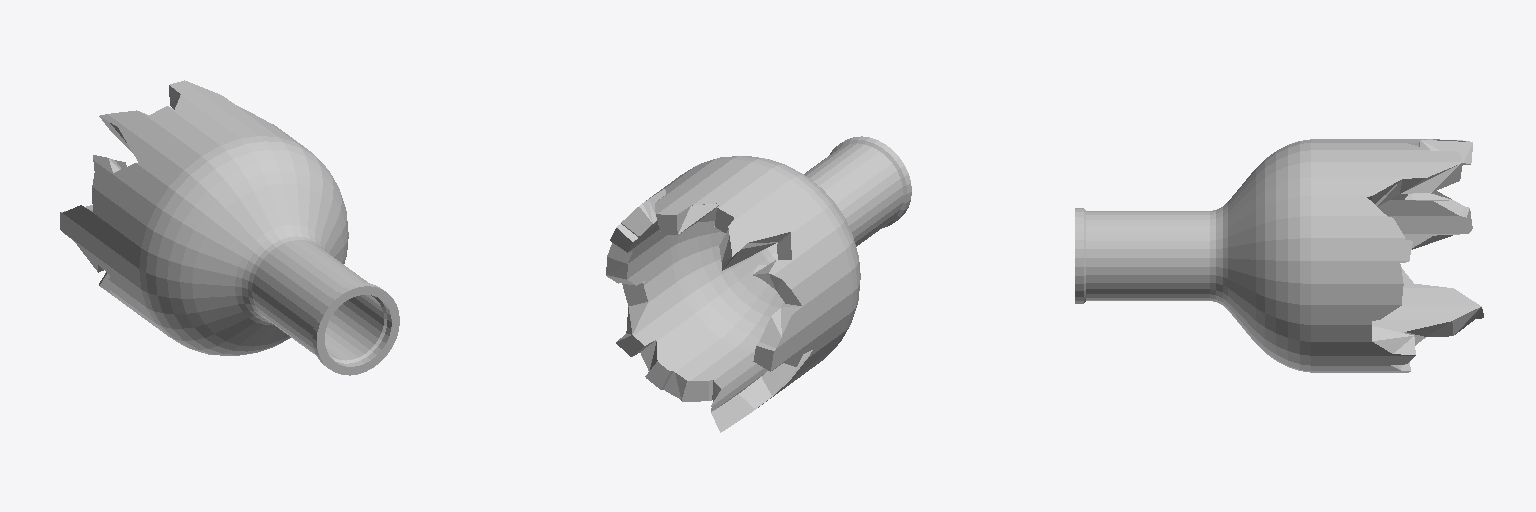
Rendered from Bottle3.obj.
3 views of the same model, side by side, from view 1: azimuth 30°, elevation 25°; view 2: azimuth 150°, elevation 25°; view 3: azimuth 270°, elevation 25° (orthographic).
Visible parts, largest first — view 1: Bottle3; view 2: Bottle3; view 3: Bottle3.
Part boxes in pixels (left/top/right/bottom): Bottle3: left=60, top=80, right=399, bottom=375; Bottle3: left=606, top=136, right=911, bottom=432; Bottle3: left=1075, top=139, right=1483, bottom=372.
Bounding box in the file's own units: 2 × 2 × 3.51.